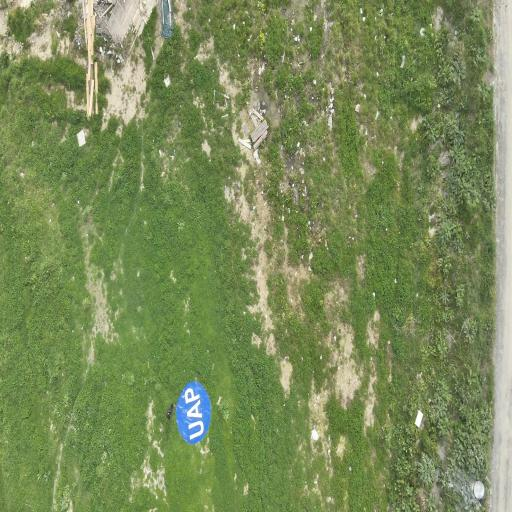person: (167, 404, 174, 419)
uap: (175, 382, 211, 443)
